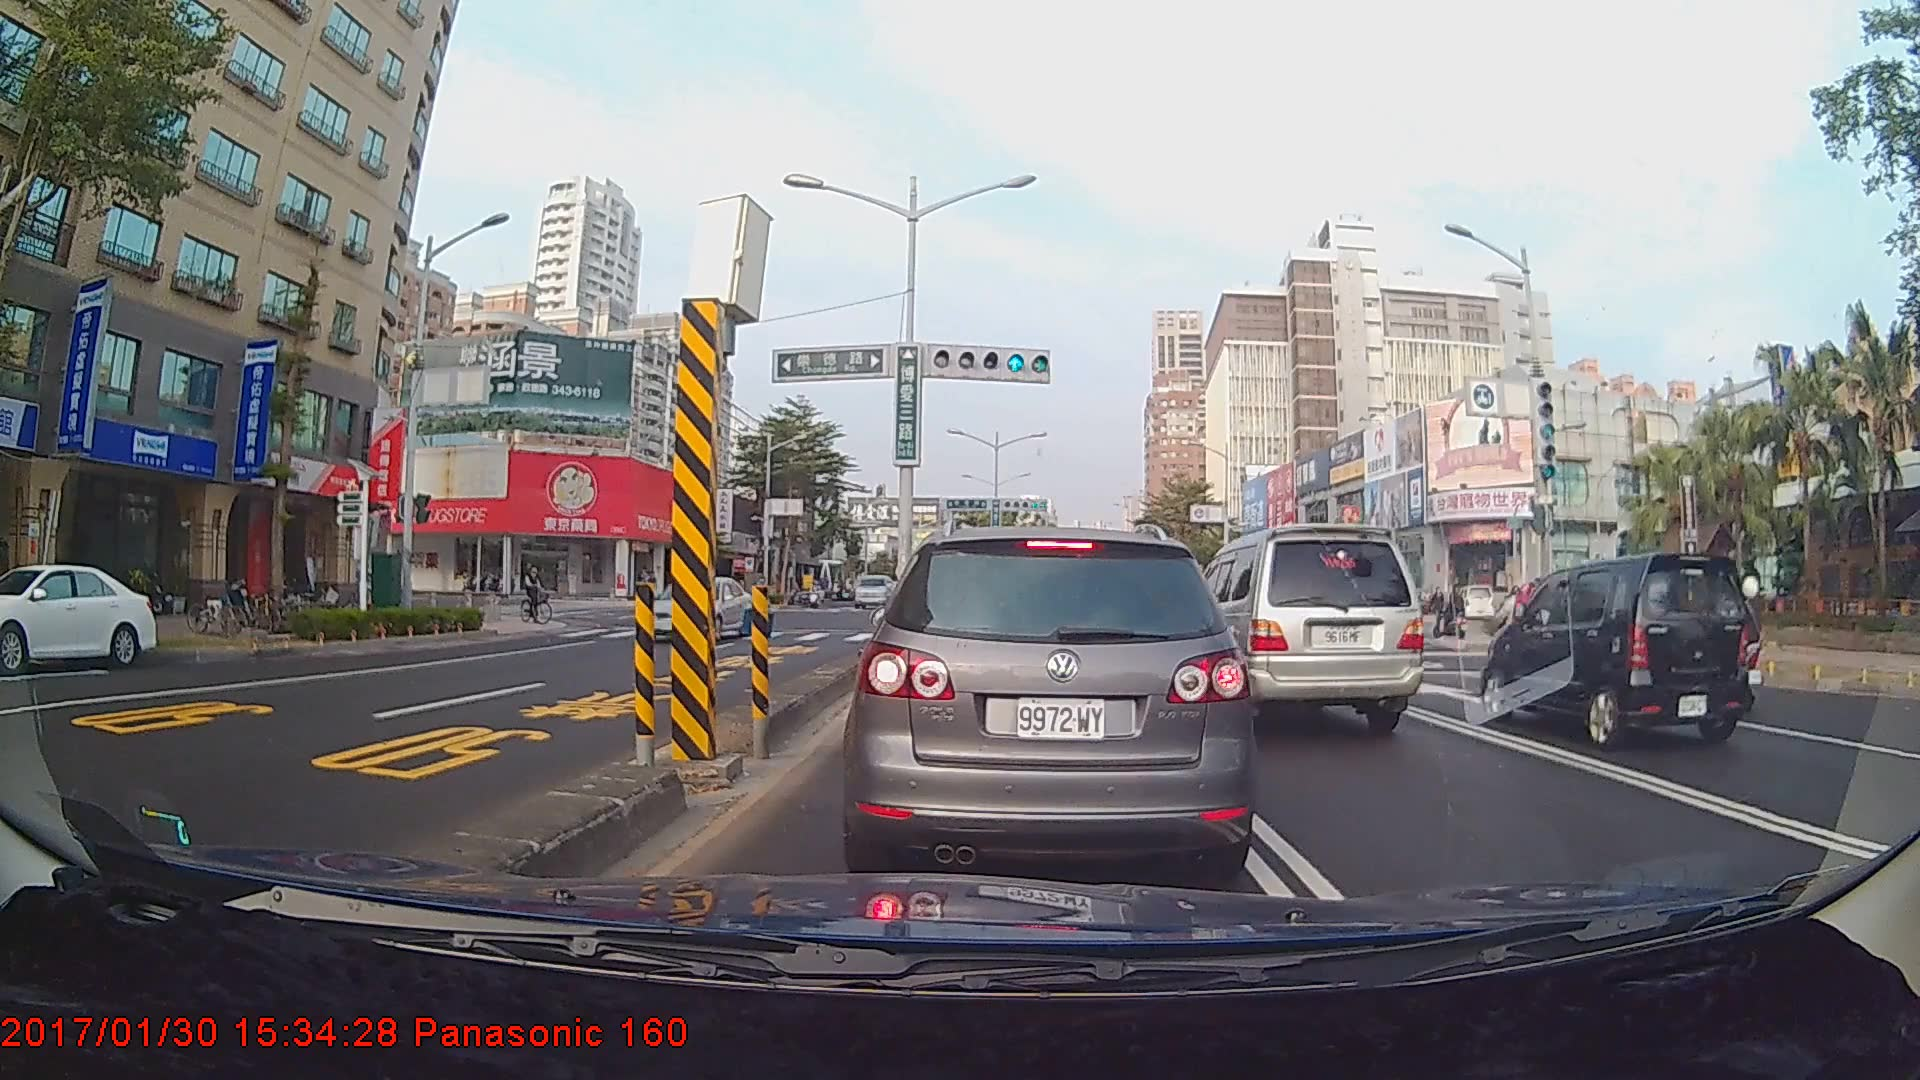rider: (1485, 582, 1548, 668), (518, 559, 561, 629)
vehicle: (855, 522, 1244, 876), (1162, 520, 1434, 740), (1479, 546, 1766, 750), (0, 561, 157, 671), (641, 575, 766, 643), (852, 572, 896, 609)
